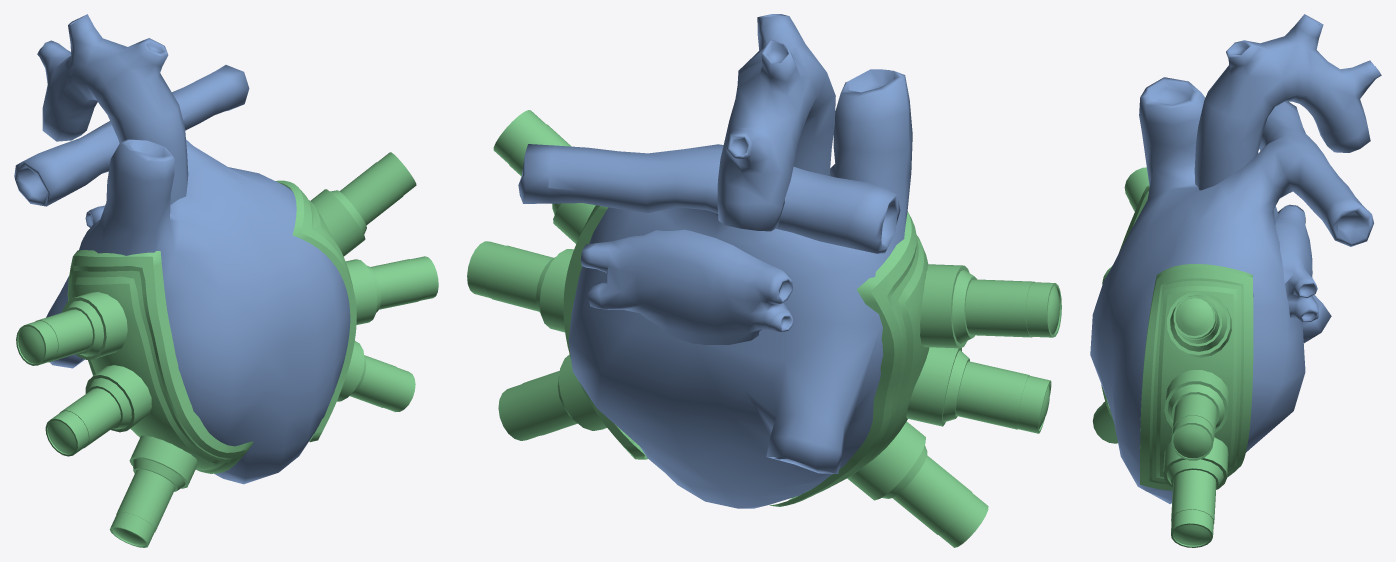
File: CorazonEntero_Low02.fbx
The picture shows the model from 3 angles, left to right: view 1: azimuth 30°, elevation 25°; view 2: azimuth 150°, elevation 25°; view 3: azimuth 270°, elevation 25°; orthographic projection. The views are drawn at different scales.
Visible parts, largest first — view 1: Plane, Plane.002, placa_02_low, placa_01_low, pistonMov001_low, pistonMov002_low, pistonMov000_low, pistonMov005_low, pistonMov004_low, Piston004_low, Piston005_low, pistonMov003_low (+4 smaller); view 2: Plane, Plane.001, Plane.002, placa_02_low, pistonMov000_low, pistonMov001_low, pistonMov002_low, pistonMov004_low, Piston004_low, pistonMov003_low, Piston005_low, Piston003_low (+5 smaller); view 3: Plane, Plane.002, placa_01_low, Plane.001, pistonMov003_low, pistonMov004_low, Piston001_low, Piston000_low, pistonMov005_low, Piston002_low, pistonMov000_low, pistonMov002_low (+1 smaller).
Boxes of the visible parts, <box> form: Plane: <box>14,65,350,484</box>; Plane.002: <box>37,14,188,204</box>; placa_02_low: <box>67,250,253,473</box>; placa_01_low: <box>275,180,356,442</box>; pistonMov001_low: <box>45,388,120,456</box>; pistonMov002_low: <box>109,469,175,547</box>; pistonMov000_low: <box>16,309,92,365</box>; pistonMov005_low: <box>339,152,416,225</box>; pistonMov004_low: <box>370,256,438,309</box>; Piston004_low: <box>62,292,127,359</box>; Piston005_low: <box>85,365,151,432</box>; pistonMov003_low: <box>350,355,415,412</box>; Plane: <box>518,69,912,508</box>; Plane.001: <box>580,229,792,345</box>; Plane.002: <box>717,14,835,231</box>; placa_02_low: <box>769,211,929,506</box>; pistonMov000_low: <box>965,279,1061,337</box>; pistonMov001_low: <box>956,361,1051,433</box>; pistonMov002_low: <box>892,455,988,547</box>; pistonMov004_low: <box>467,241,553,311</box>; Piston004_low: <box>920,264,977,348</box>; pistonMov003_low: <box>498,371,577,440</box>; Piston005_low: <box>906,347,969,426</box>; Piston003_low: <box>847,421,927,500</box>; Plane: <box>1090,77,1373,503</box>; Plane.002: <box>1194,14,1381,190</box>; placa_01_low: <box>1140,264,1253,490</box>; Plane.001: <box>1275,204,1318,322</box>; pistonMov003_low: <box>1171,470,1216,547</box>; pistonMov004_low: <box>1171,394,1217,460</box>; Piston001_low: <box>1164,370,1229,433</box>; Piston000_low: <box>1167,291,1231,357</box>; pistonMov005_low: <box>1173,296,1219,343</box>; Piston002_low: <box>1163,437,1228,489</box>; pistonMov000_low: <box>1124,167,1149,211</box>; pistonMov002_low: <box>1092,401,1117,443</box>.
Bounding box in the file's own units: 397 × 400 × 236.
